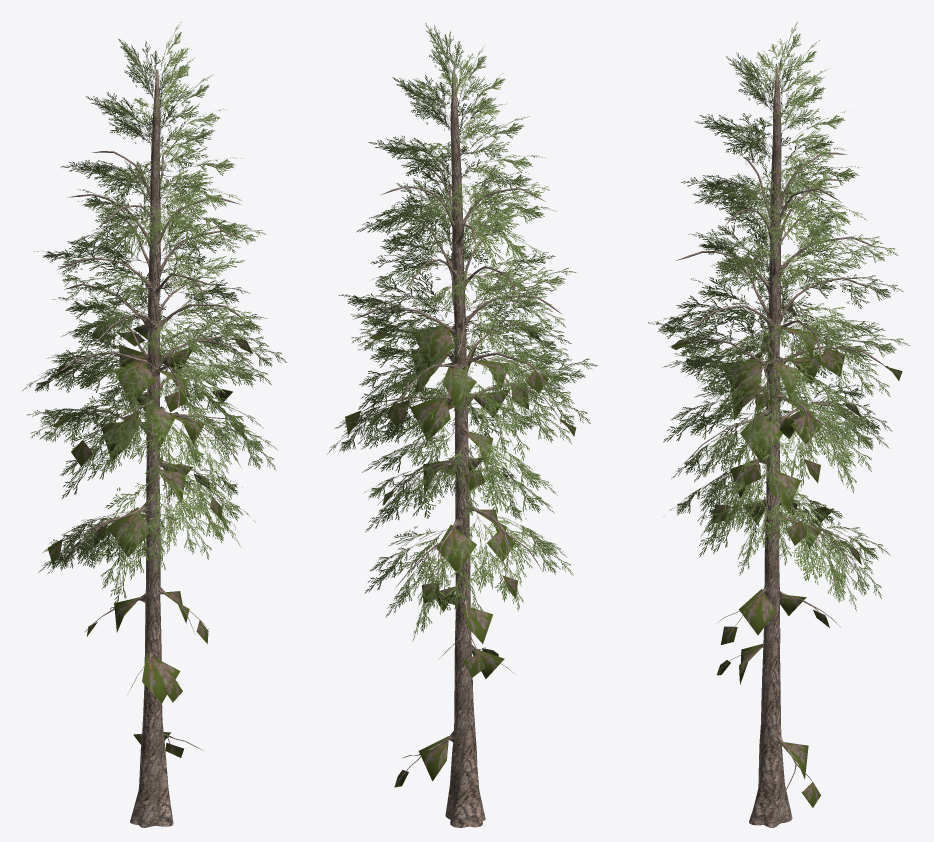
Rendered from spruce.fbx.
3 renders of one model, left to right at view 1: azimuth 30°, elevation 25°; view 2: azimuth 150°, elevation 25°; view 3: azimuth 270°, elevation 25°, orthographic.
Visible parts, largest first — view 1: spruce branch_1, bark08_0, branch06_2; view 2: spruce branch_1, bark08_0, branch06_2; view 3: spruce branch_1, bark08_0, branch06_2.
Boxes of the visible parts, left/top/right/bottom form: spruce branch_1: left=22, top=22, right=286, bottom=606; bark08_0: left=49, top=69, right=254, bottom=827; branch06_2: left=47, top=308, right=252, bottom=757; spruce branch_1: left=327, top=23, right=597, bottom=641; bark08_0: left=352, top=69, right=563, bottom=827; branch06_2: left=345, top=324, right=576, bottom=787; spruce branch_1: left=648, top=22, right=910, bottom=611; bark08_0: left=669, top=67, right=885, bottom=827; branch06_2: left=671, top=305, right=902, bottom=807.
Size of the model in its own units: 352 by 1065 by 339.
3 materials, 3 textured.
